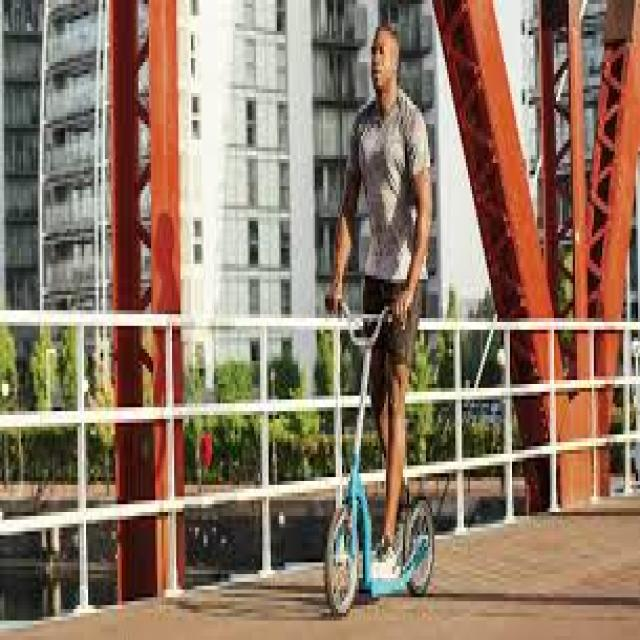non-helmet: (316, 15, 438, 617)
